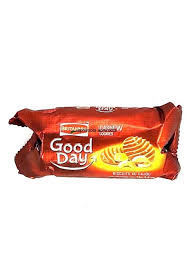gooday-small: (10, 104, 176, 179)
